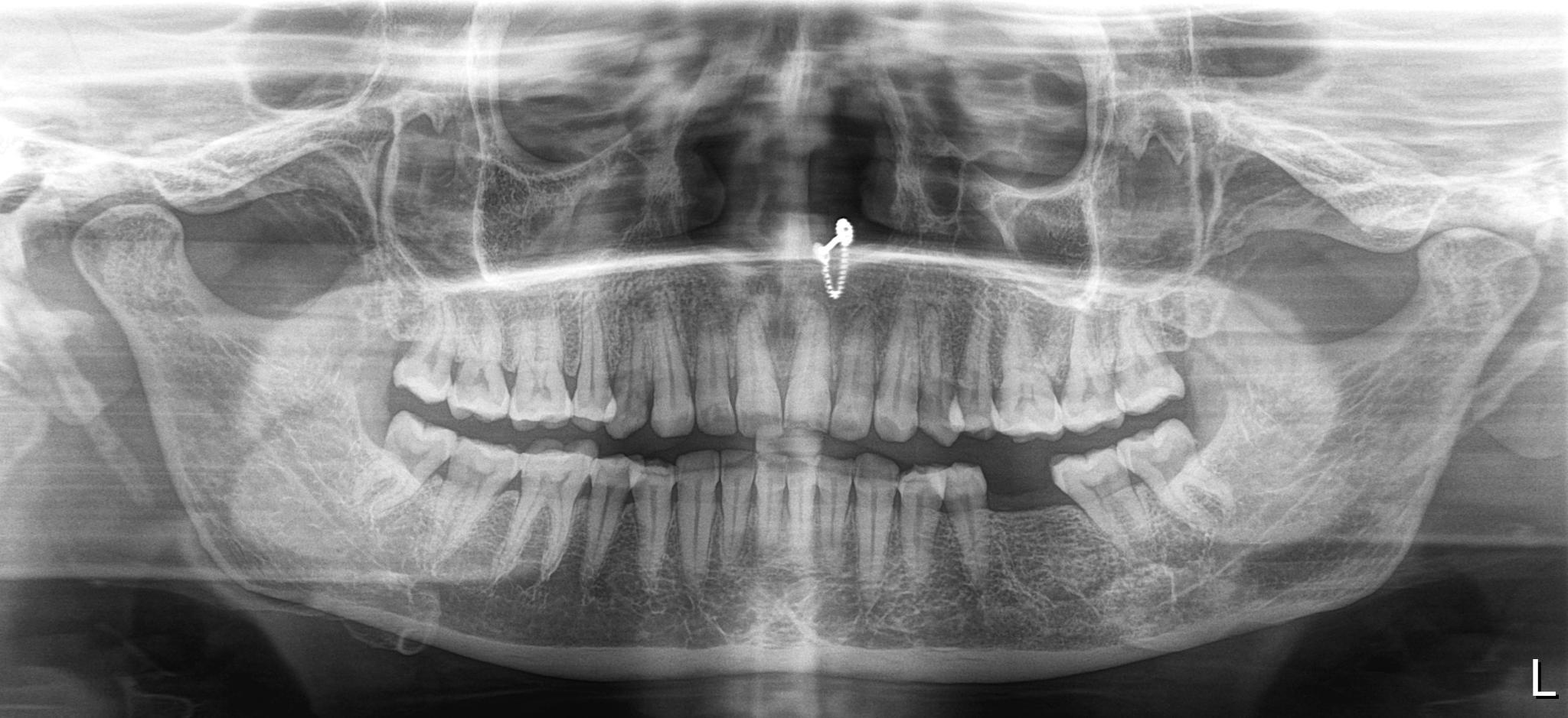Missing Tooth: (986, 472, 1080, 582), (1171, 304, 1243, 415)
